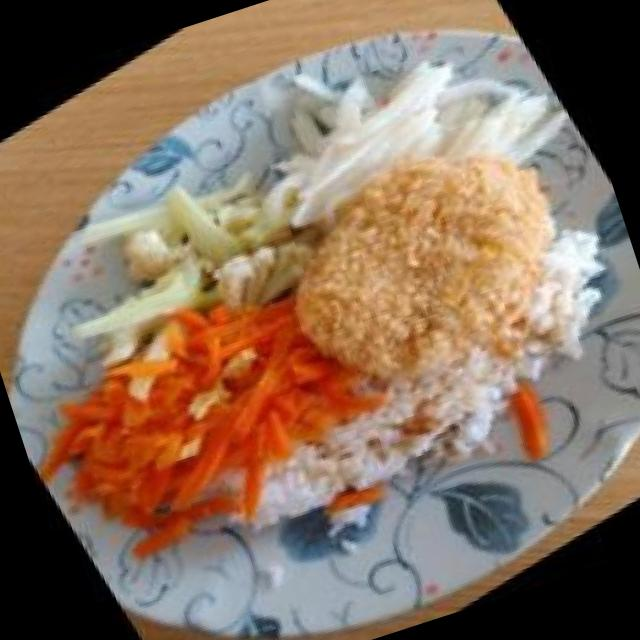carrot_eggs: (30, 256, 388, 576)
fried_chicken: (236, 86, 617, 427)
rice: (235, 286, 625, 545)
